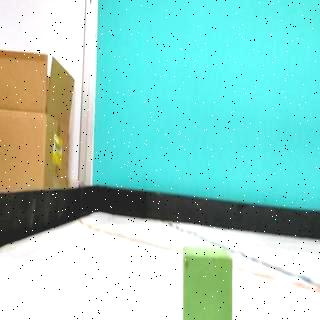greenbox: (180, 245, 233, 320)
